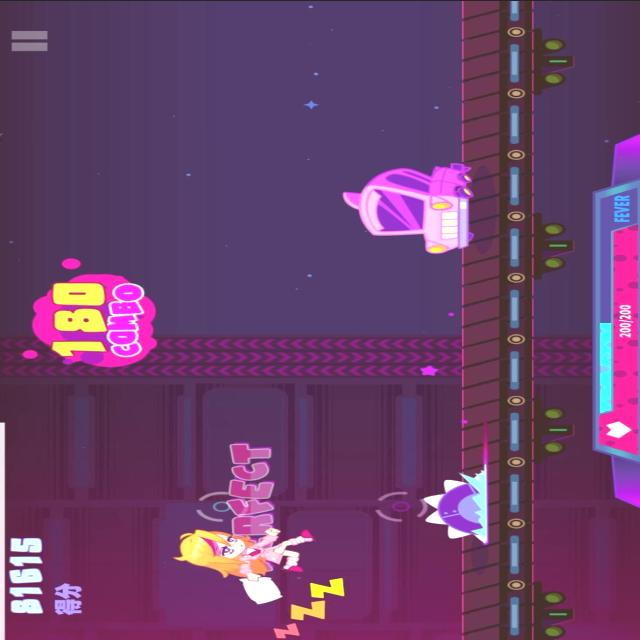che: (343, 150, 479, 260)
ci: (421, 411, 491, 541)
